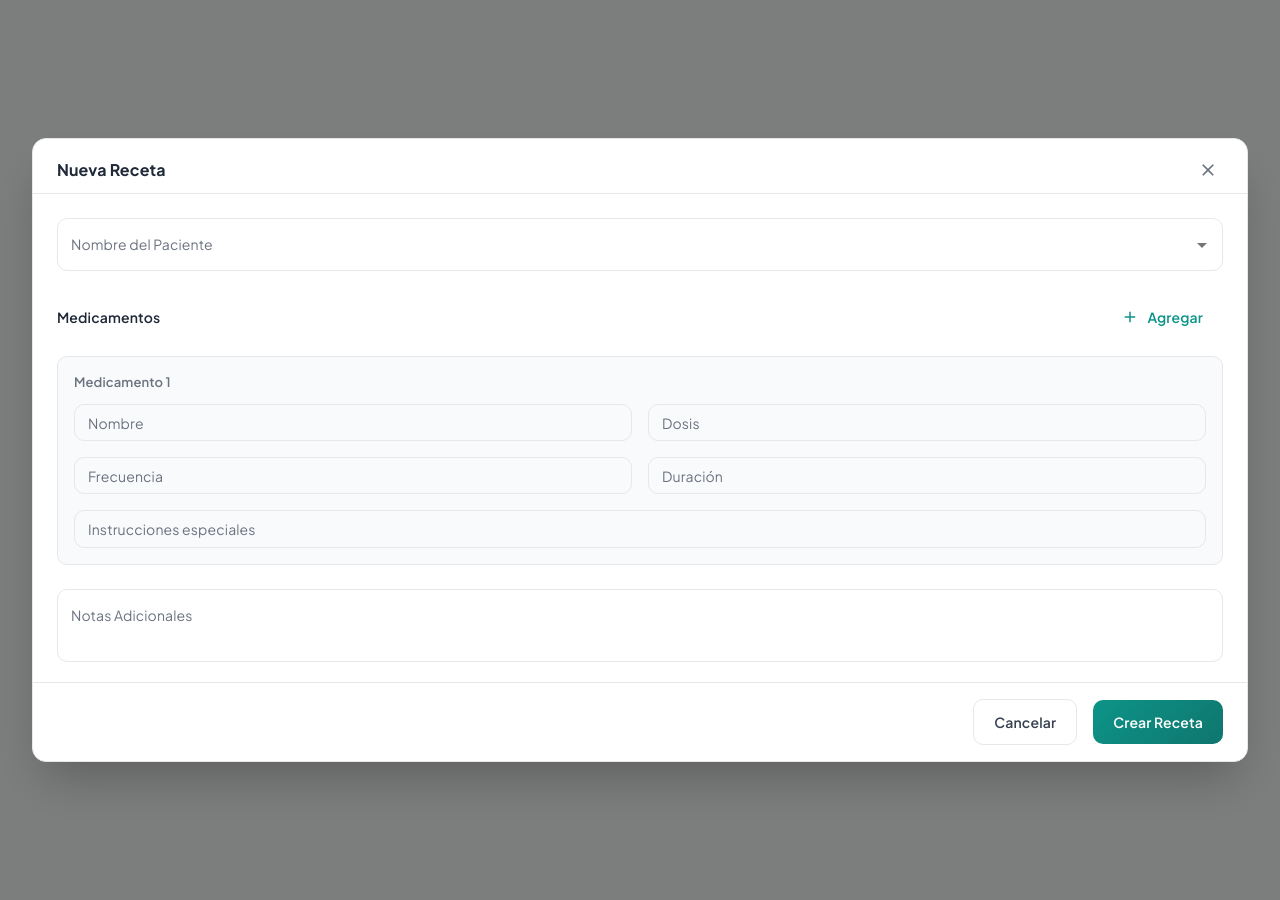
Scenario: PrescriptionFormDialog › shows validation errors when submitting an empty form
Click the button "Crear Receta" at (1158, 722), box 1093,700 -> 1223,744
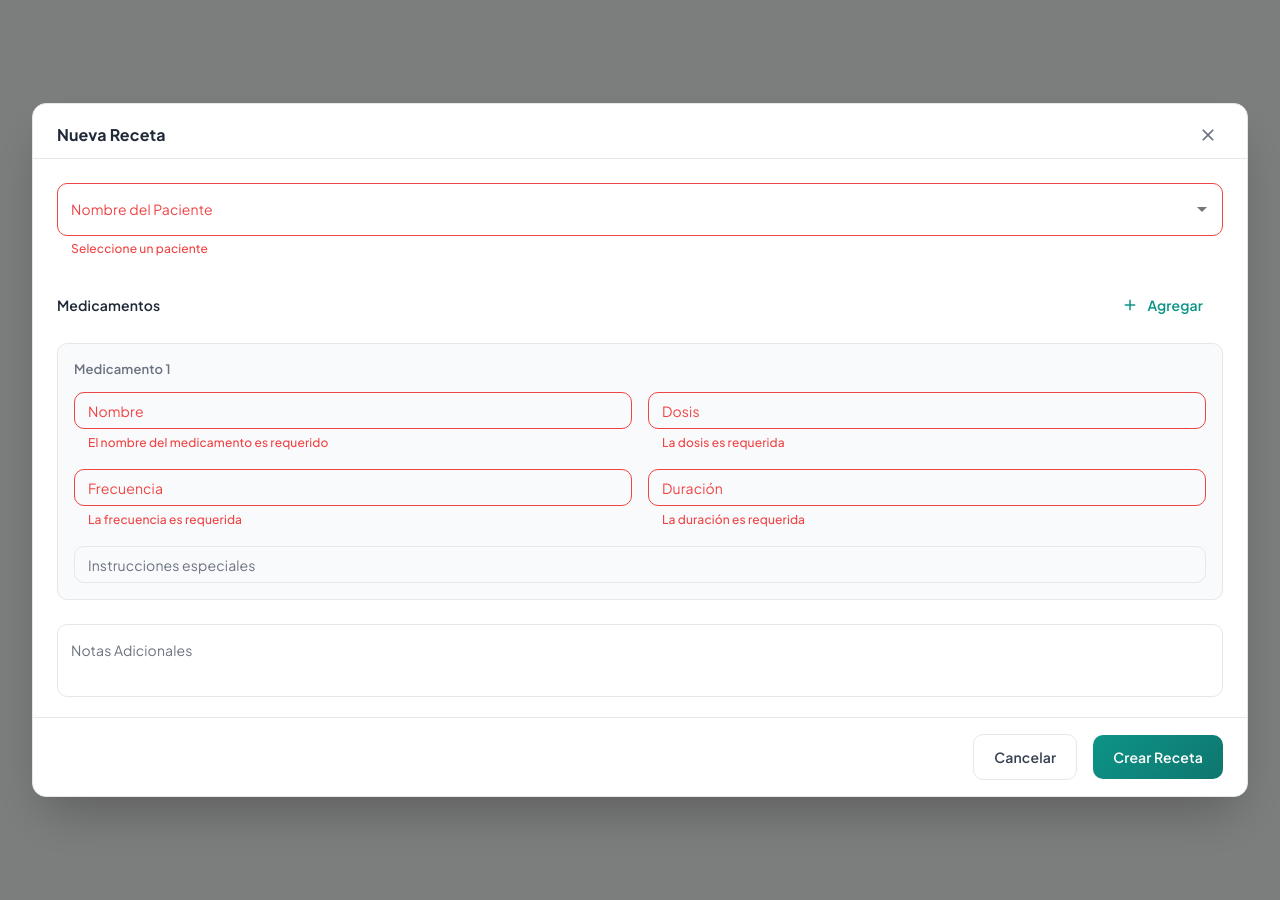
Result: the text "Seleccione un paciente" is shown at 71,241 -> 208,256
Result: the text "El nombre del medicamento es requerido" is shown at 88,435 -> 328,450
Result: the text "La dosis es requerida" is shown at 662,435 -> 785,450
